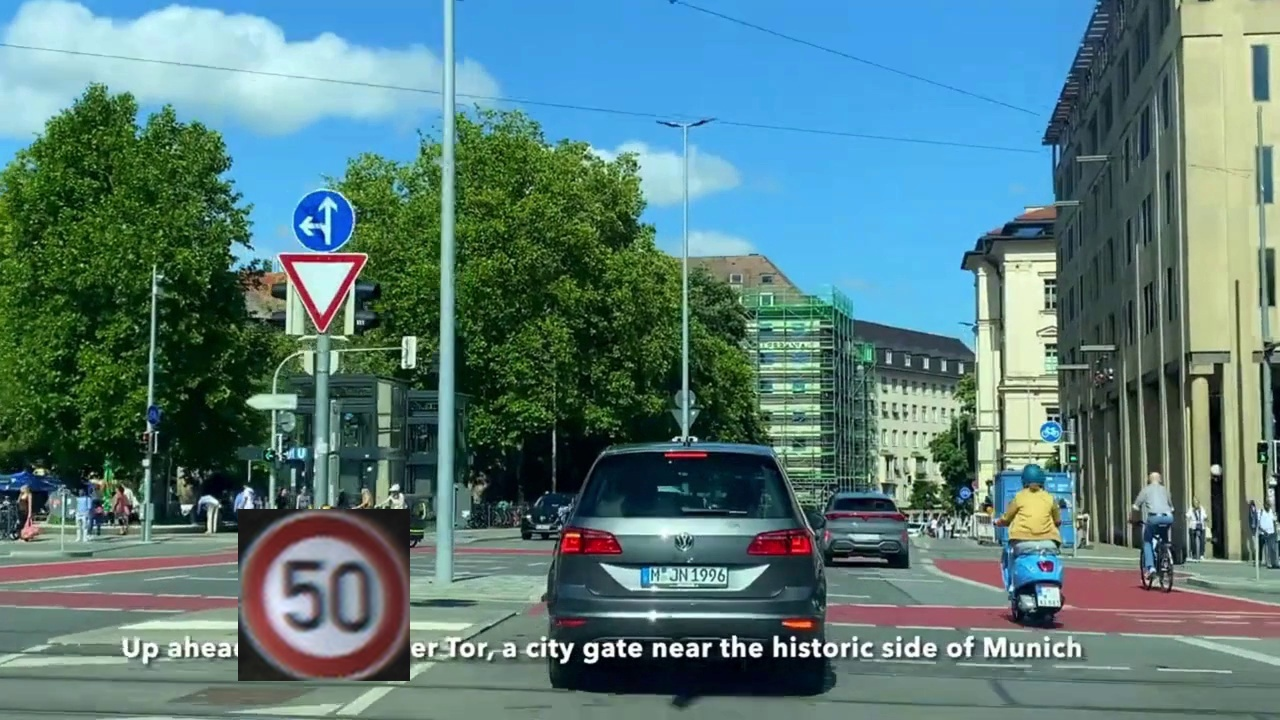Speed 50: (238, 509, 410, 681)
